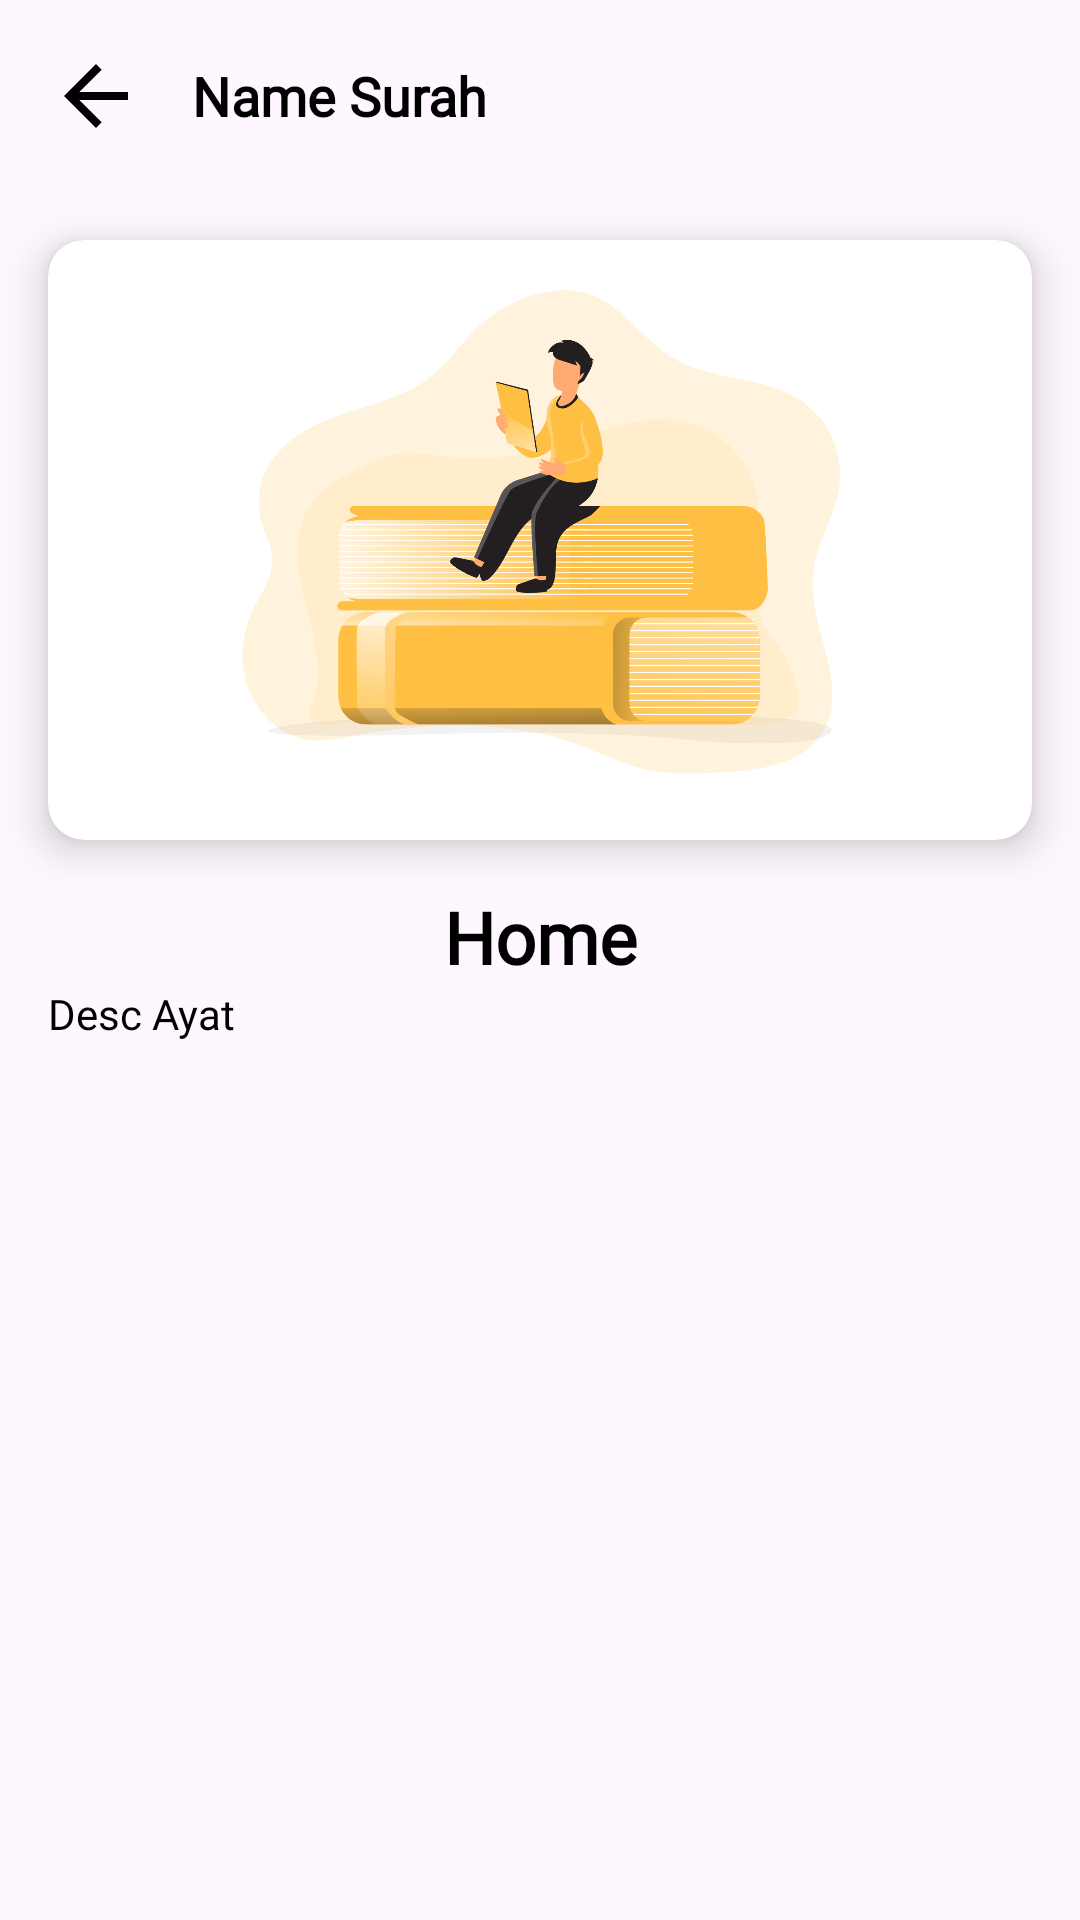

Icon click points for this 1080x1920 phone screenshot, format (x=x, y=y):
Tombol Kembali: (x=96, y=96)
